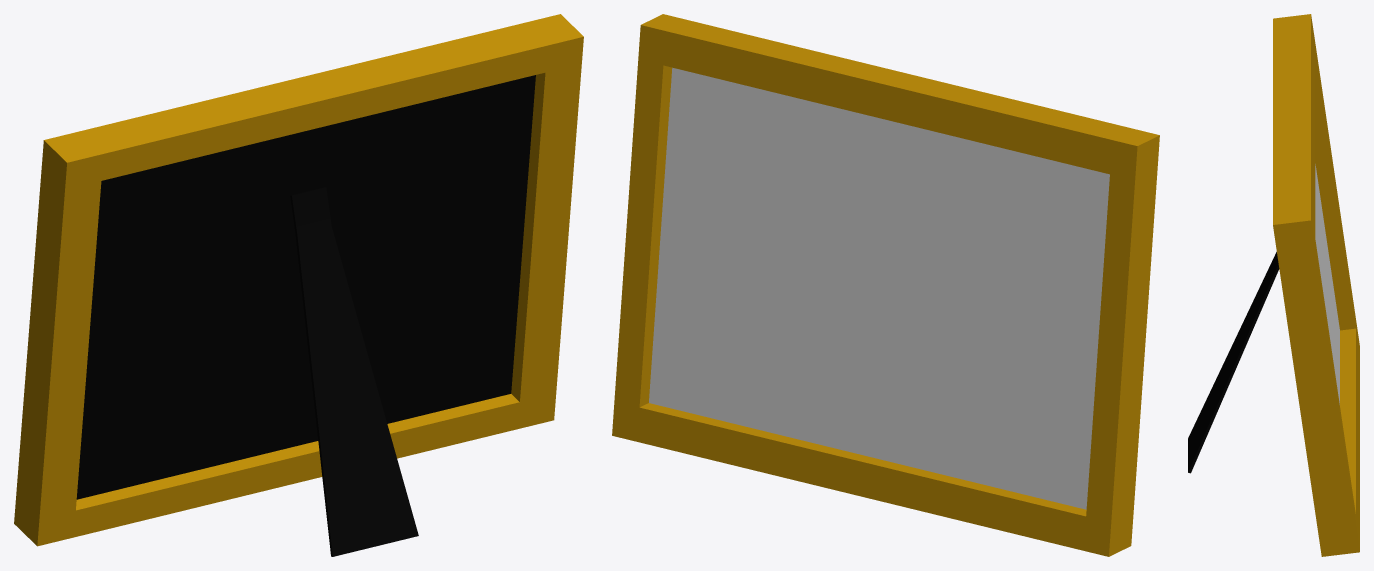
The model's file is HorizontalFrame.fbx.
The picture shows the model from 3 angles, left to right: view 1: azimuth 30°, elevation 25°; view 2: azimuth 150°, elevation 25°; view 3: azimuth 270°, elevation 25°; orthographic projection. The views are drawn at different scales.
Parts seen in each view (by area): view 1: Horizontal_frame; view 2: Horizontal_frame; view 3: Horizontal_frame.
Part boxes in pixels (<box>): Horizontal_frame: <box>14,14,583,556</box>; Horizontal_frame: <box>612,14,1159,556</box>; Horizontal_frame: <box>1188,14,1359,556</box>.
Bounding box in the file's own units: 0.15 × 0.1151 × 0.0528.
